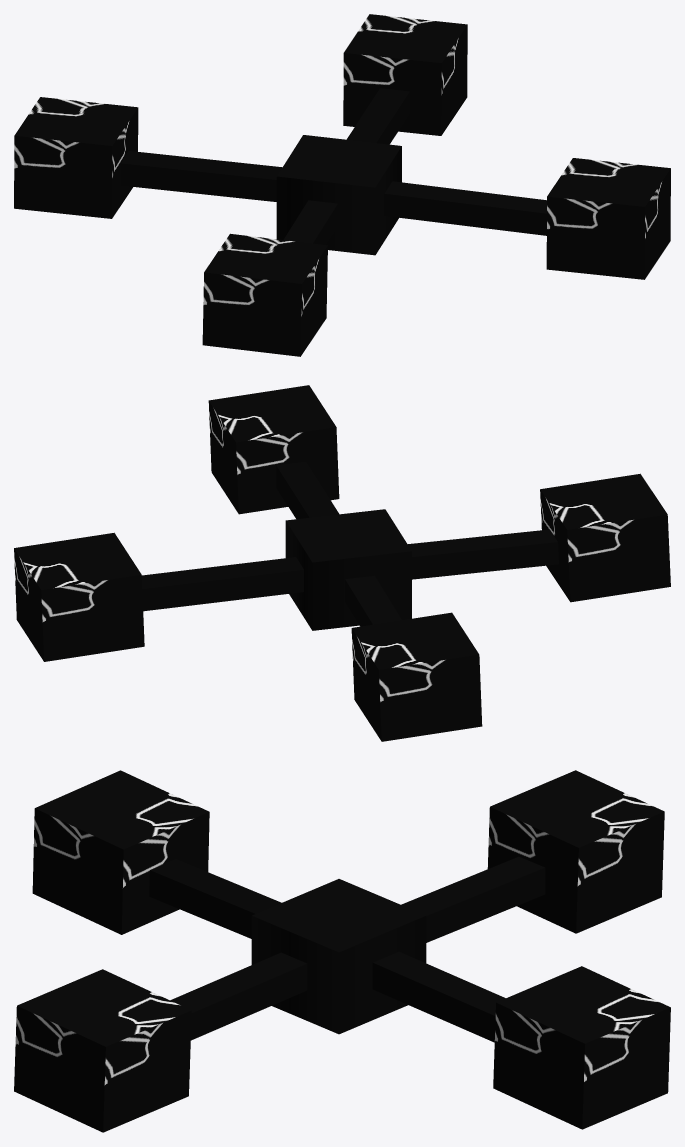
3 views of the same model, one above another, from view 1: azimuth 30°, elevation 25°; view 2: azimuth 150°, elevation 25°; view 3: azimuth 270°, elevation 25° (orthographic). The views are drawn at different scales.
Visible parts, largest first — view 1: 14; view 2: 14; view 3: 14.
Boxes of the visible parts, <box> form: 14: <box>14,14,670,356</box>; 14: <box>14,385,670,741</box>; 14: <box>14,770,670,1132</box>.
Bounding box in the file's own units: 1626 × 1649 × 261.
